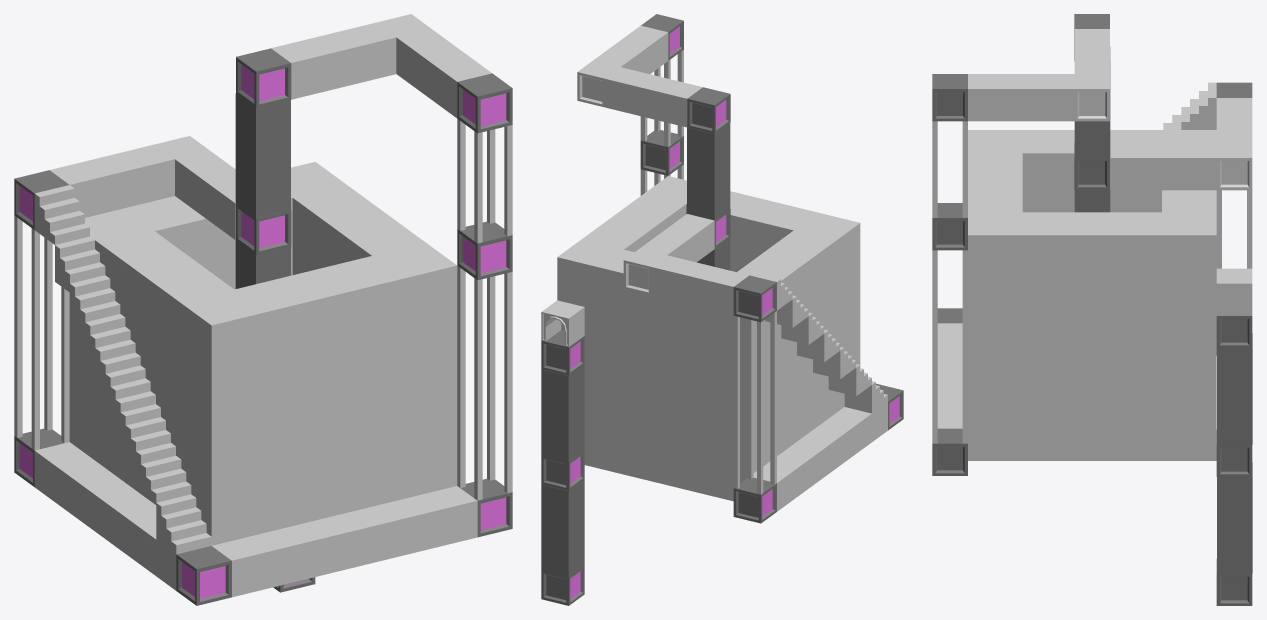
Rendered from Stage1 1.fbx.
3 views of the same model, side by side, from view 1: azimuth 30°, elevation 25°; view 2: azimuth 150°, elevation 25°; view 3: azimuth 270°, elevation 25° (orthographic). The views are drawn at different scales.
Parts seen in each view (by area): view 1: Box014, Basic008, Box028, 4Legs003, 4Legs004, 4Legs002, Basic012, Object008, Object011, Object010, Box021, Object026 (+27 smaller); view 2: Box014, Sex, Basic008, Box028, 4Legs004, Object009, Basic012, Object010, Door, Object015, Object018, Object020 (+20 smaller); view 3: Box014, Sex, Basic008, 4Legs003, Door, Object015, Object017, Box012, Object011, Object016, Object022, Object023 (+14 smaller).
Part boxes in pixels (<box>): Box014: <box>69,161,457,545</box>; Basic008: <box>235,48,291,288</box>; Box028: <box>34,442,176,590</box>; 4Legs003: <box>457,266,512,500</box>; 4Legs004: <box>14,215,69,450</box>; 4Legs002: <box>457,119,512,243</box>; Basic012: <box>14,428,512,537</box>; Object008: <box>176,546,231,605</box>; Object011: <box>457,73,512,133</box>; Object010: <box>457,221,512,280</box>; Box021: <box>156,494,211,554</box>; Object026: <box>75,288,130,347</box>; Box014: <box>557,176,860,501</box>; Sex: <box>541,330,584,605</box>; Basic008: <box>687,87,730,270</box>; Box028: <box>753,402,887,511</box>; 4Legs004: <box>733,311,776,494</box>; Object009: <box>733,275,776,322</box>; Basic012: <box>733,477,776,523</box>; Object010: <box>640,130,683,175</box>; Door: <box>541,300,584,347</box>; Object015: <box>623,248,666,295</box>; Object018: <box>659,80,702,127</box>; Object020: <box>604,67,647,113</box>; Box014: <box>968,130,1216,460</box>; Sex: <box>1216,316,1252,605</box>; Basic008: <box>1074,14,1110,212</box>; 4Legs003: <box>932,250,967,443</box>; Door: <box>1216,268,1252,315</box>; Object015: <box>1216,143,1252,190</box>; Object017: <box>1145,143,1181,190</box>; Box012: <box>1110,143,1145,190</box>; Object011: <box>932,74,967,121</box>; Object016: <box>1181,143,1216,190</box>; Object022: <box>1039,74,1074,121</box>; Object023: <box>1003,74,1038,121</box>.
Size of the model in its own units: 180 by 330 by 180.
